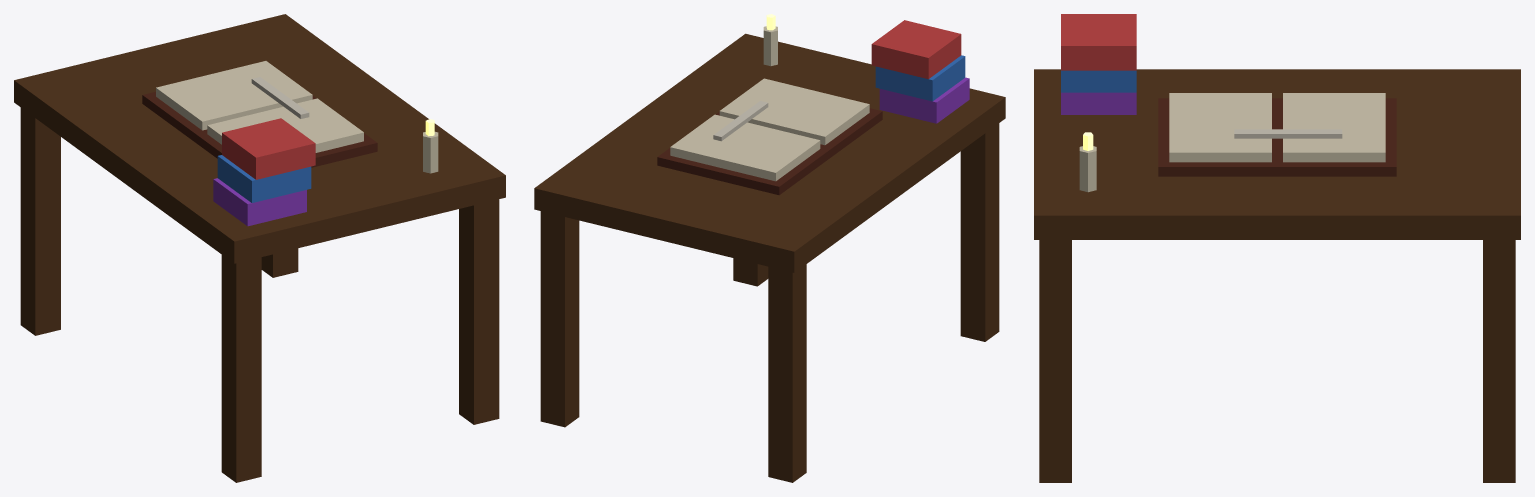
The model's file is lab-desk.glb.
The picture shows the model from 3 angles, left to right: view 1: azimuth 30°, elevation 25°; view 2: azimuth 150°, elevation 25°; view 3: azimuth 270°, elevation 25°; orthographic projection. The views are drawn at different scales.
Visible parts, largest first — view 1: lab-desk; view 2: lab-desk; view 3: lab-desk.
Part boxes in pixels (box(x1,y1,x2,y2)): lab-desk: box(14, 14, 505, 482); lab-desk: box(534, 14, 1005, 482); lab-desk: box(1034, 14, 1520, 482).
Bounding box in the file's own units: 0.64 × 0.7 × 0.9.
